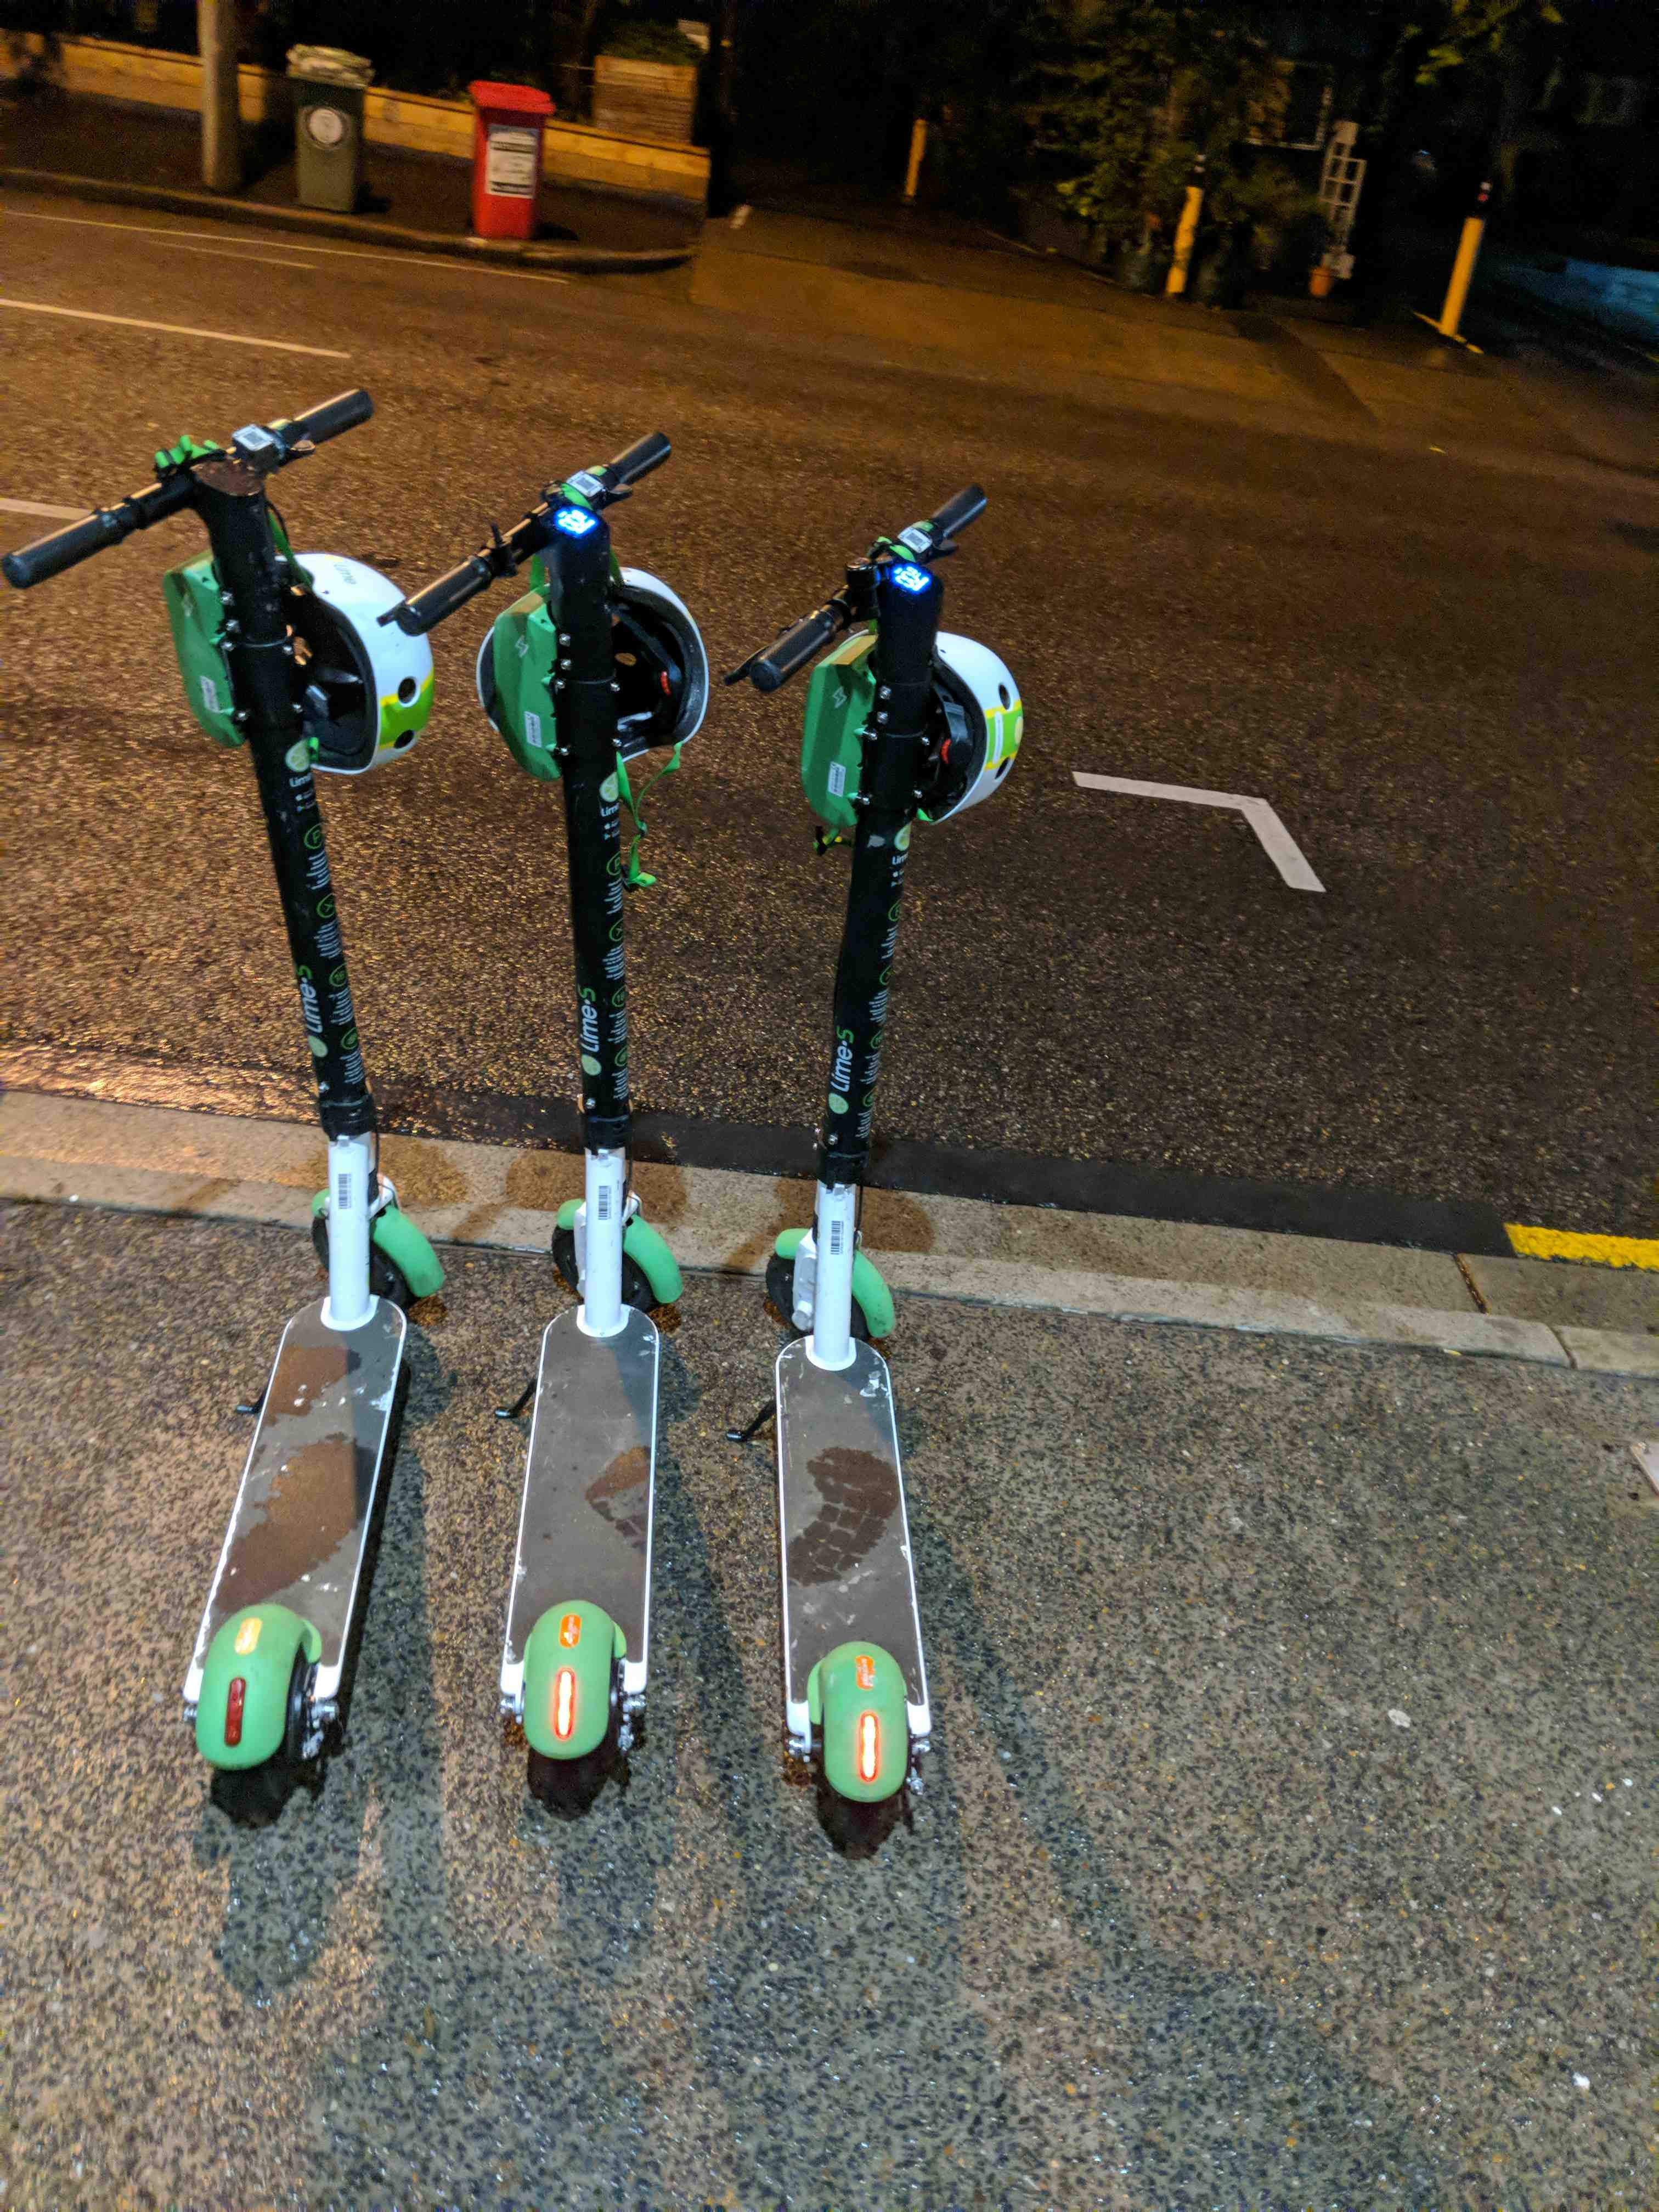too close: (711, 1188, 950, 1409), (516, 1160, 730, 1386), (254, 1146, 481, 1348)
